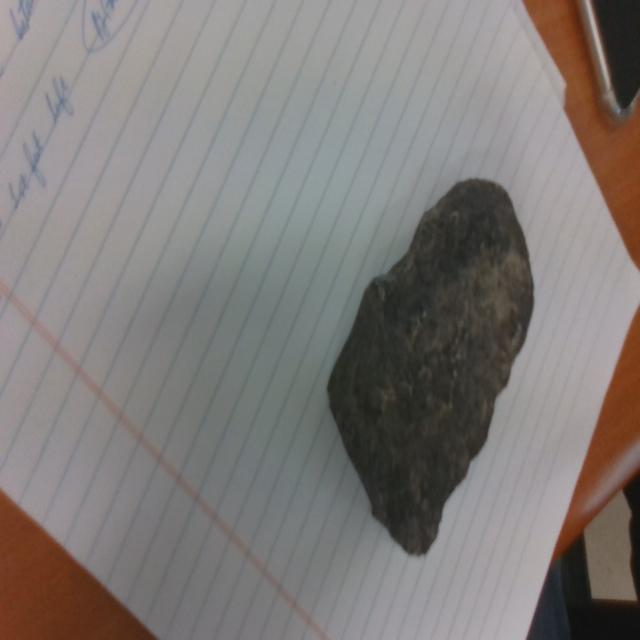stone: (327, 177, 535, 558)
